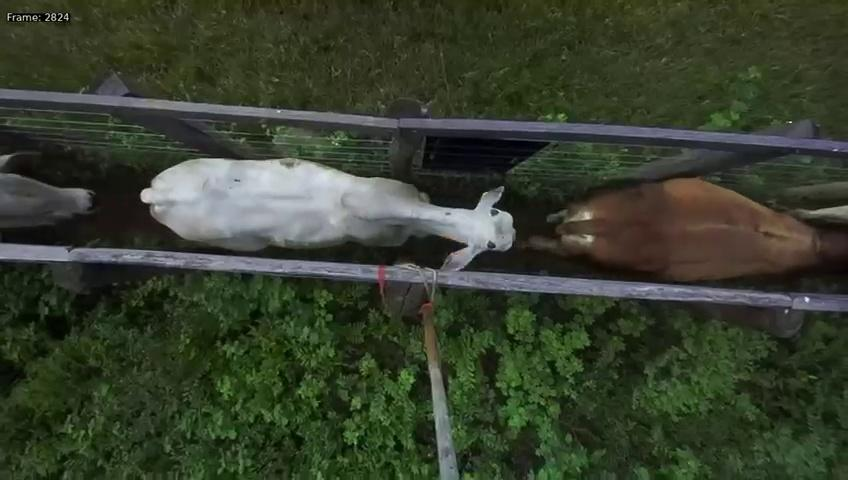cattle: (137, 126, 518, 270), (529, 169, 848, 288)
